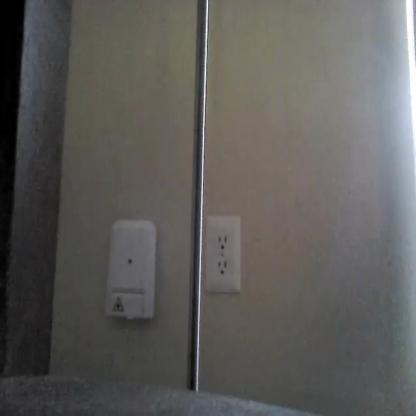OUTLET: (204, 215, 242, 293)
